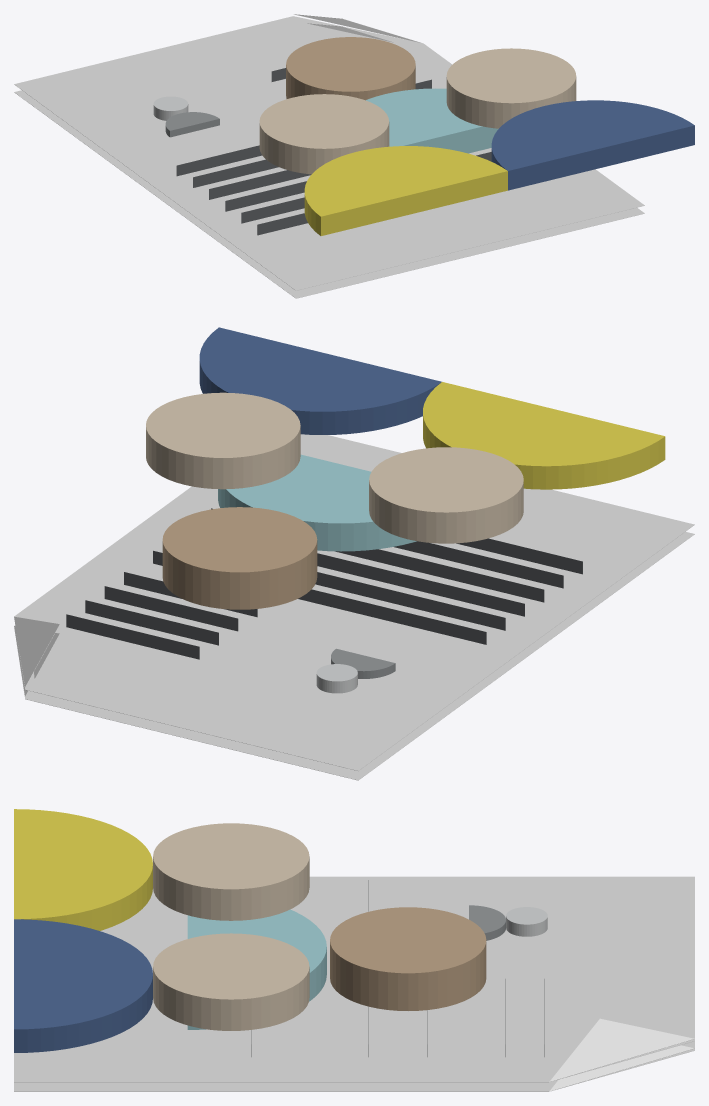
3 views of the same model, one above another, from view 1: azimuth 30°, elevation 25°; view 2: azimuth 150°, elevation 25°; view 3: azimuth 270°, elevation 25° (orthographic). The views are drawn at different scales.
Parts seen in each view (by area): view 1: Mesh_Mesh_head_geo.001_lambert2SG.001; view 2: Mesh_Mesh_head_geo.001_lambert2SG.001; view 3: Mesh_Mesh_head_geo.001_lambert2SG.001.
Boxes of the visible parts, box(x1,y1,x2,y2) form: Mesh_Mesh_head_geo.001_lambert2SG.001: box(14, 14, 694, 298); Mesh_Mesh_head_geo.001_lambert2SG.001: box(14, 327, 694, 780); Mesh_Mesh_head_geo.001_lambert2SG.001: box(14, 809, 694, 1091).
Bounding box in the file's own units: 0.032 × 0.00733 × 0.0392.
